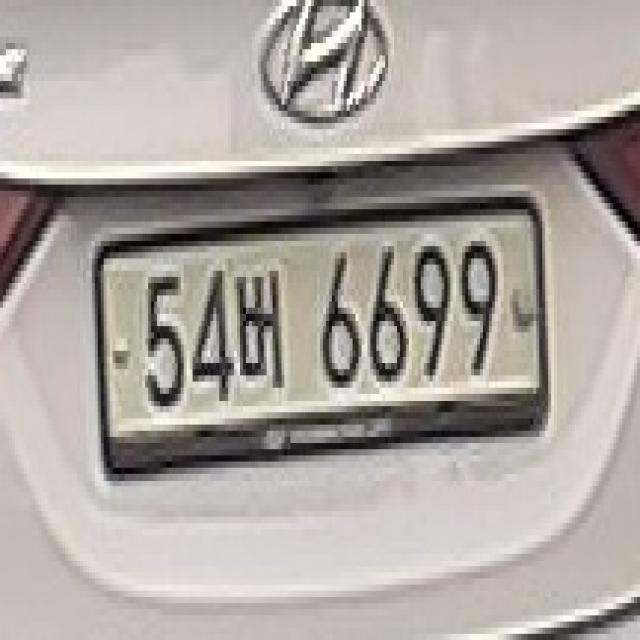4: (190, 258, 237, 412)
5: (139, 258, 193, 431)
6: (314, 215, 362, 400), (364, 234, 415, 394)
9: (450, 228, 507, 375), (412, 234, 459, 394)
beo: (237, 240, 296, 400)
license_plate: (95, 160, 548, 480)
